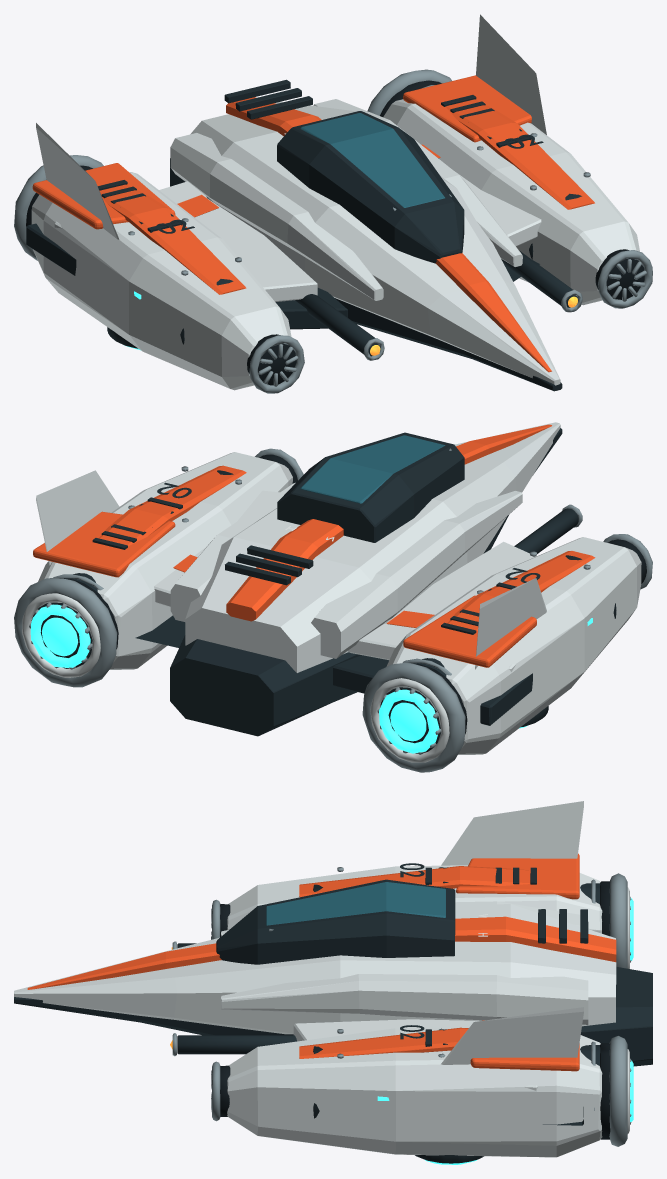
File: wraith-lod.glb
3 views of the same model, one above another, from view 1: azimuth 30°, elevation 25°; view 2: azimuth 150°, elevation 25°; view 3: azimuth 270°, elevation 25° (orthographic). The views are drawn at different scales.
Parts seen in each view (by area): view 1: Ceramic_Paint.001, Carbon_Composite.001, Livery_Paint.001, Titanium.001, Canopy_Glass.001, Airbrake_R, Recesses.001, Airbrake_L; view 2: Ceramic_Paint.001, Carbon_Composite.001, Livery_Paint.001, Titanium.001, Ion_Emission.001, Canopy_Glass.001, Airbrake_R, Airbrake_L, Recesses.001; view 3: Ceramic_Paint.001, Carbon_Composite.001, Livery_Paint.001, Titanium.001, Canopy_Glass.001, Airbrake_L, Recesses.001, Airbrake_R, Ion_Emission.001.
Boxes of the visible parts, box(x1,y1,x2,y2) form: Ceramic_Paint.001: box(31, 14, 639, 390); Carbon_Composite.001: box(26, 79, 581, 391); Livery_Paint.001: box(99, 97, 594, 372); Titanium.001: box(14, 69, 652, 393); Canopy_Glass.001: box(300, 113, 444, 207); Airbrake_R: box(403, 75, 531, 142); Recesses.001: box(26, 80, 644, 385); Airbrake_L: box(32, 163, 175, 229); Ceramic_Paint.001: box(22, 422, 641, 762); Carbon_Composite.001: box(31, 428, 616, 753); Livery_Paint.001: box(99, 424, 595, 634); Titanium.001: box(14, 448, 652, 772); Ion_Emission.001: box(30, 604, 592, 753); Canopy_Glass.001: box(300, 435, 445, 503); Airbrake_R: box(33, 511, 175, 577); Airbrake_L: box(403, 595, 536, 667); Recesses.001: box(64, 454, 646, 734); Ceramic_Paint.001: box(14, 801, 629, 1157); Carbon_Composite.001: box(14, 863, 652, 1163); Livery_Paint.001: box(27, 866, 616, 1058); Titanium.001: box(172, 867, 631, 1146); Canopy_Glass.001: box(266, 882, 445, 925); Airbrake_L: box(456, 853, 579, 899); Recesses.001: box(220, 881, 610, 1139); Airbrake_R: box(468, 1028, 579, 1071); Ion_Emission.001: box(377, 898, 633, 1164).
Bounding box in the file's own units: 5.55 × 2.09 × 6.94.
